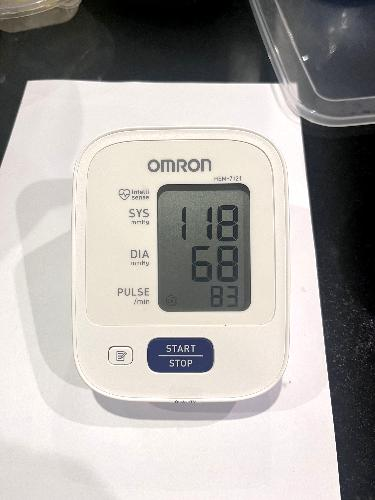bpm: (155, 180, 252, 313)
